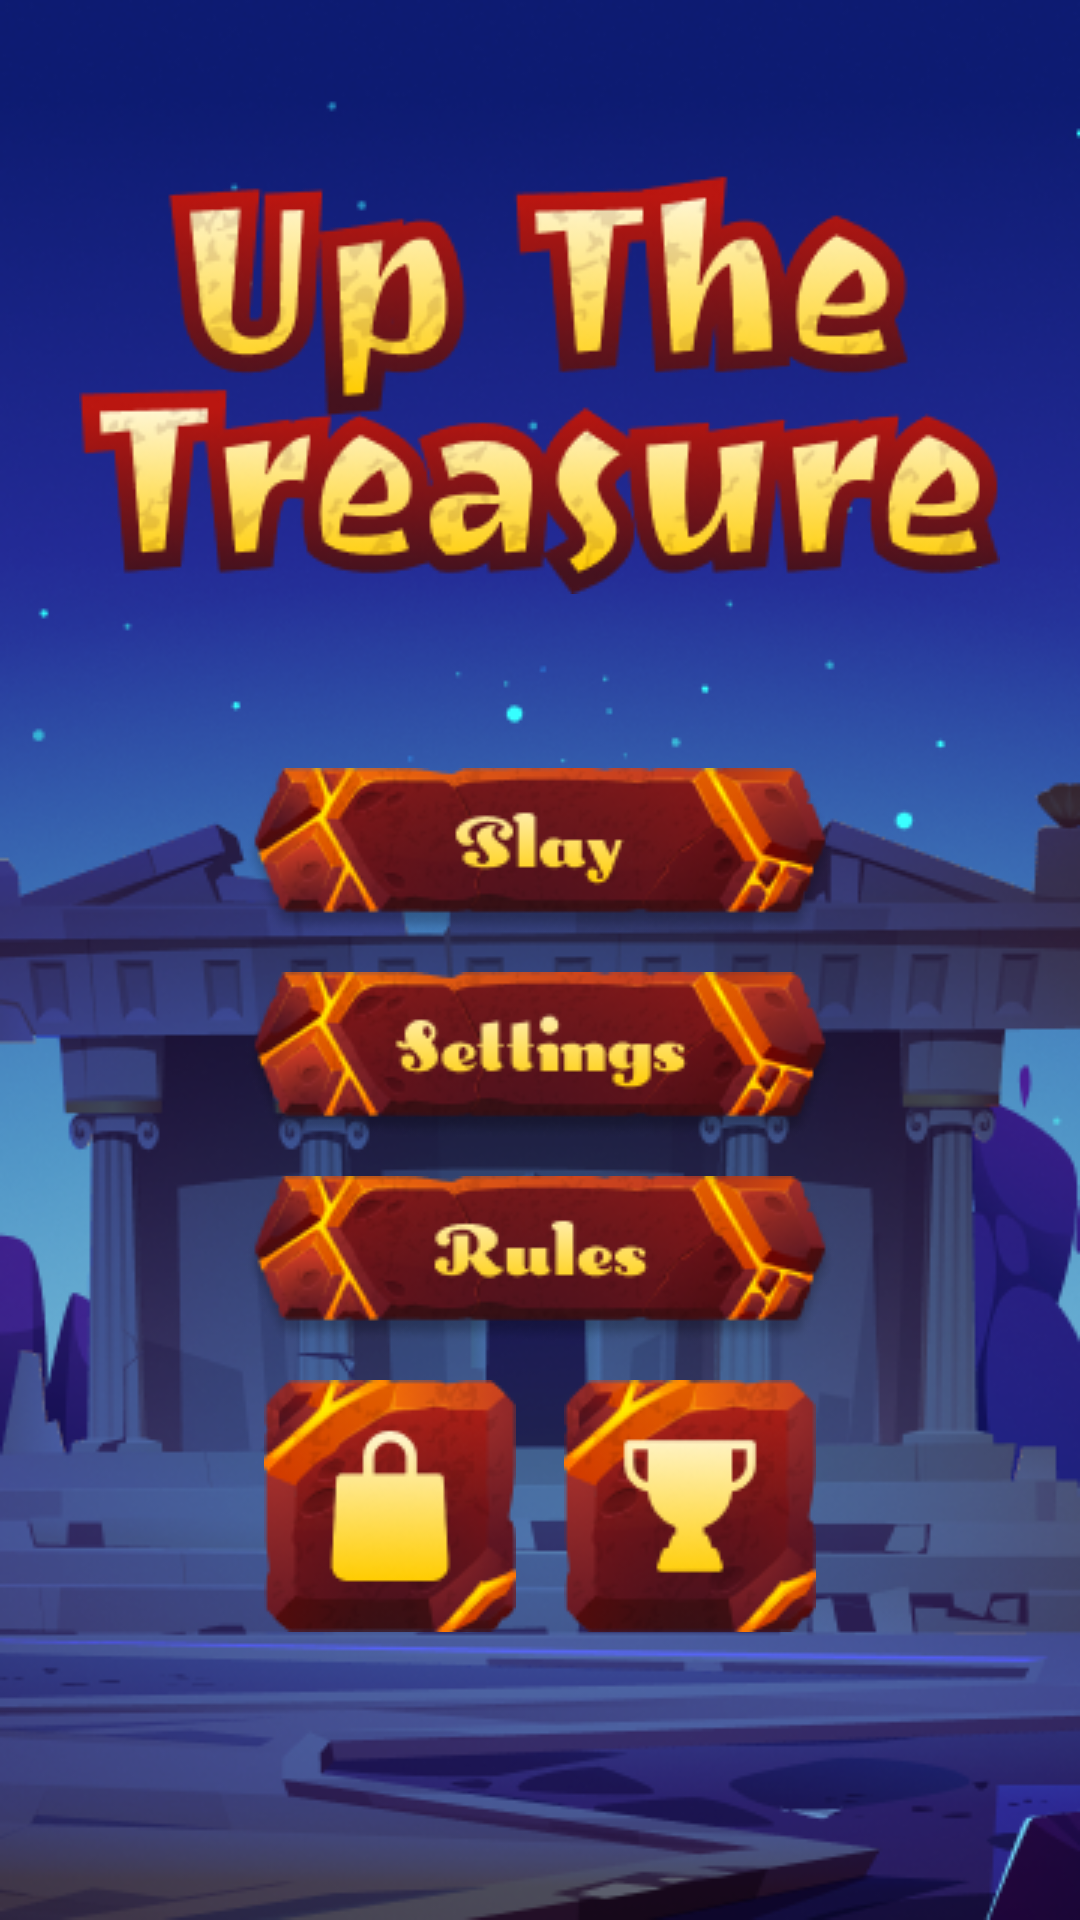

Icon bounding boxes for this 1080 × 1920 phone screenshot, format Rect(x1, y1, x2, y2):
achie: Rect(564, 1380, 816, 1632)
store: Rect(264, 1380, 516, 1632)
